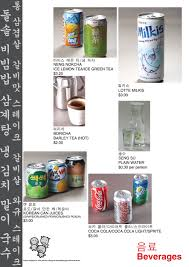coke: (90, 176, 150, 223)
